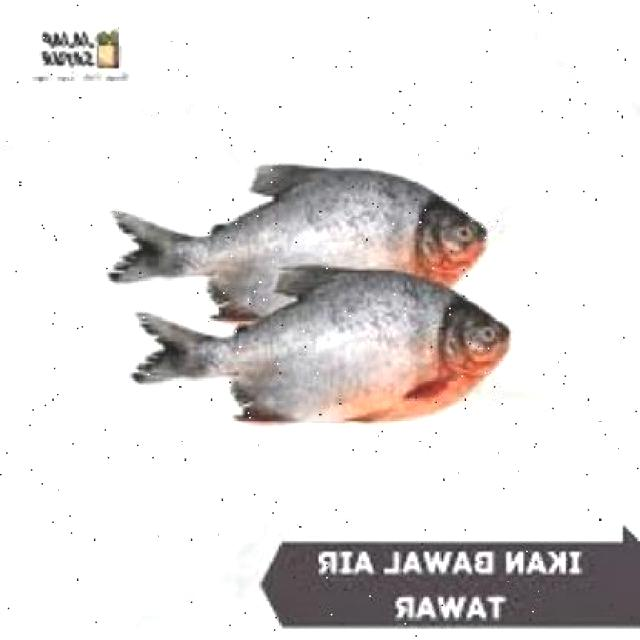ikan-pacu: (134, 264, 520, 432), (108, 159, 490, 327)
